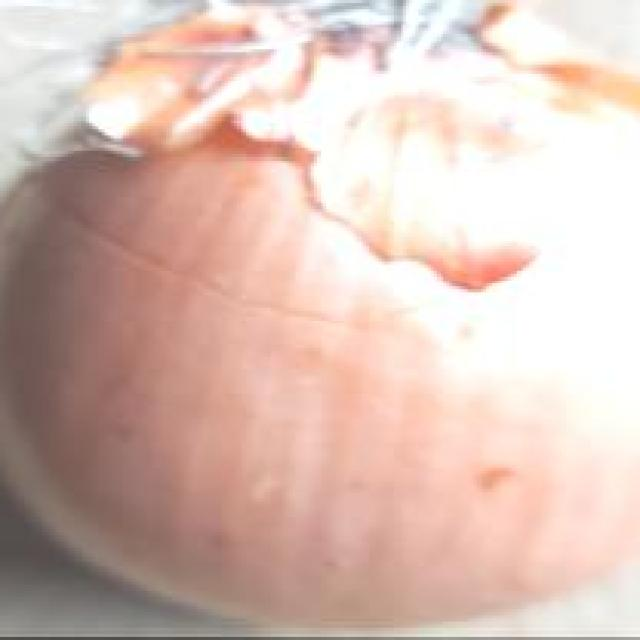onion: (0, 0, 640, 637)
